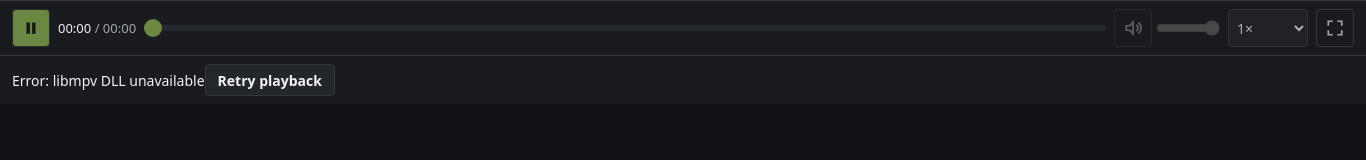
Test: keeps load failures visible and retries without falling back to HTML
This screenshot has width=1366, height=160.
Expected: the text "Error: libmpv DLL unavailable Retry playback" is shown, top-left (0, 55), bottom-right (1365, 104)
Expected: the slider named "Seek" is disabled, top-left (144, 9), bottom-right (1106, 47)
Click the button "Retry playback".
click(270, 80)  # box top-left (205, 64), bottom-right (335, 96)
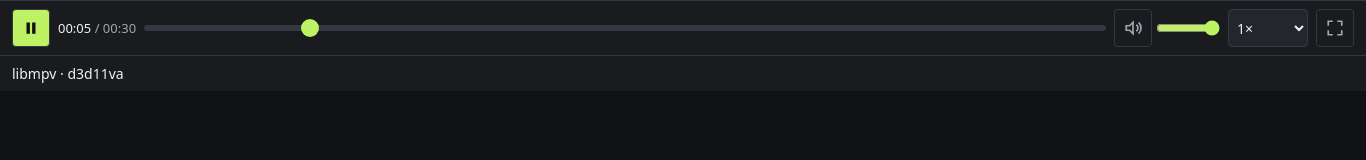
Now the text "libmpv · d3d11va" is shown, box top-left (0, 55), bottom-right (1365, 91)
